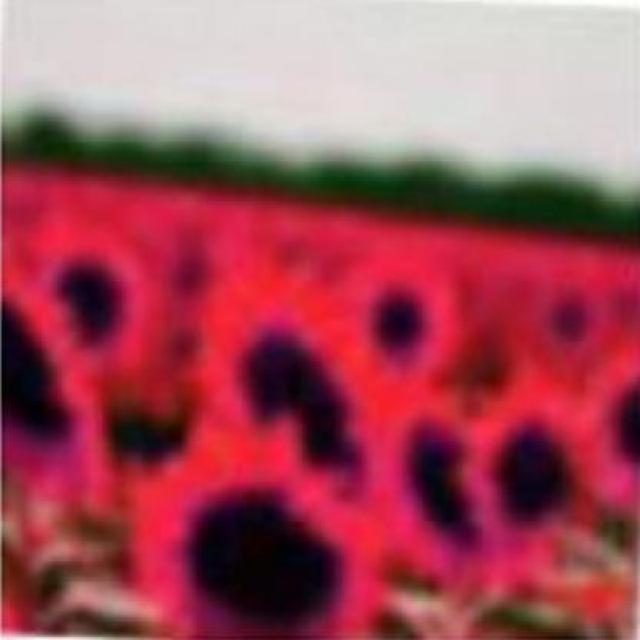sunflower: (133, 423, 384, 640)
